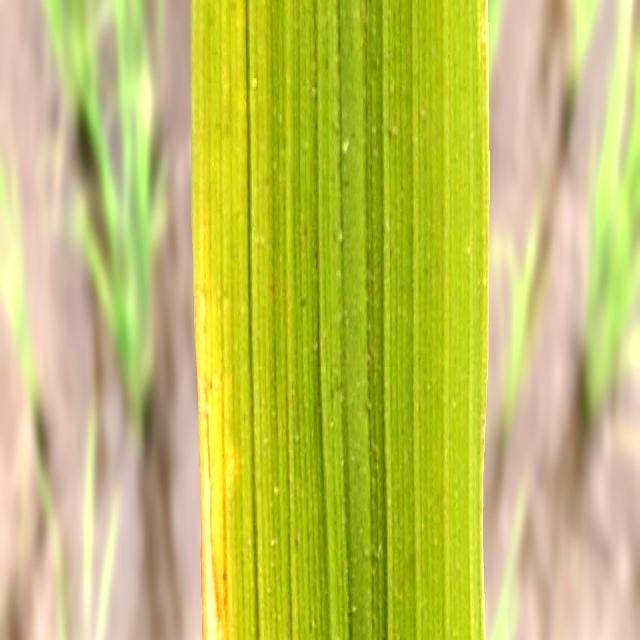BLS: (196, 224, 241, 640)
